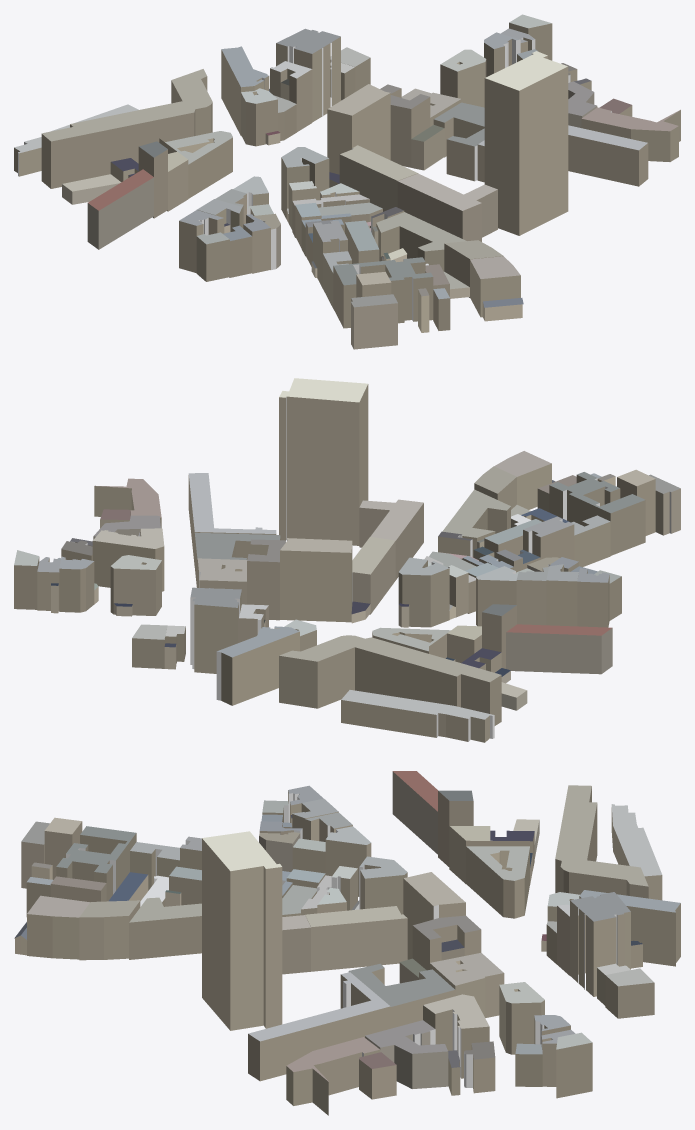
The picture shows the model from 3 angles, top to bottom: view 1: azimuth 30°, elevation 25°; view 2: azimuth 150°, elevation 25°; view 3: azimuth 270°, elevation 25°; orthographic projection. The views are drawn at different scales.
Parts seen in each view (by area): view 1: tuile; view 2: tuile; view 3: tuile.
Part boxes in pixels (bbox=[...]): tuile: bbox=[14, 14, 680, 349]; tuile: bbox=[14, 378, 680, 742]; tuile: bbox=[14, 771, 680, 1115].
Bounding box in the file's own units: 286 × 72.81 × 272.
